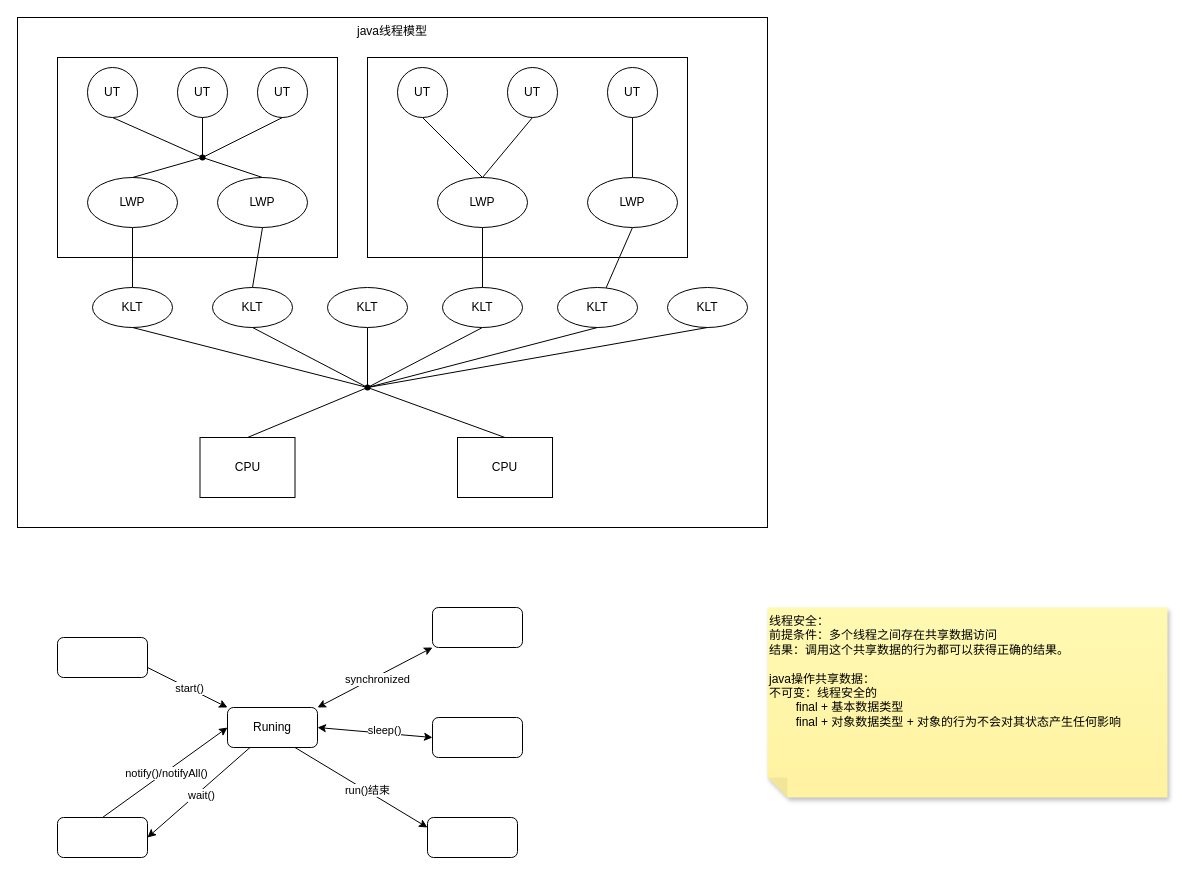
Image size: 1191x875. Some labels were removed from this diagram. Each missing label, with the centre of its shape:
"Blocked" belongs at (x=477, y=627).
"New" belongs at (x=102, y=657).
"Terminnated" belongs at (x=472, y=837).
"Timed Waiting" belongs at (x=477, y=737).
"Waiting" belongs at (x=102, y=837).
